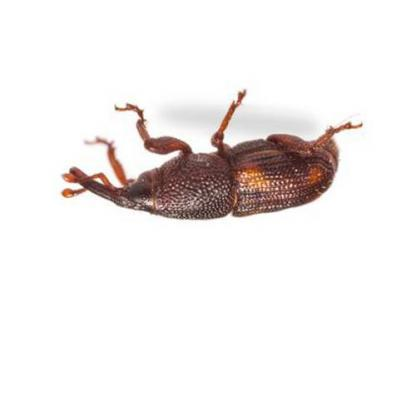rice-bug: (71, 103, 354, 226)
